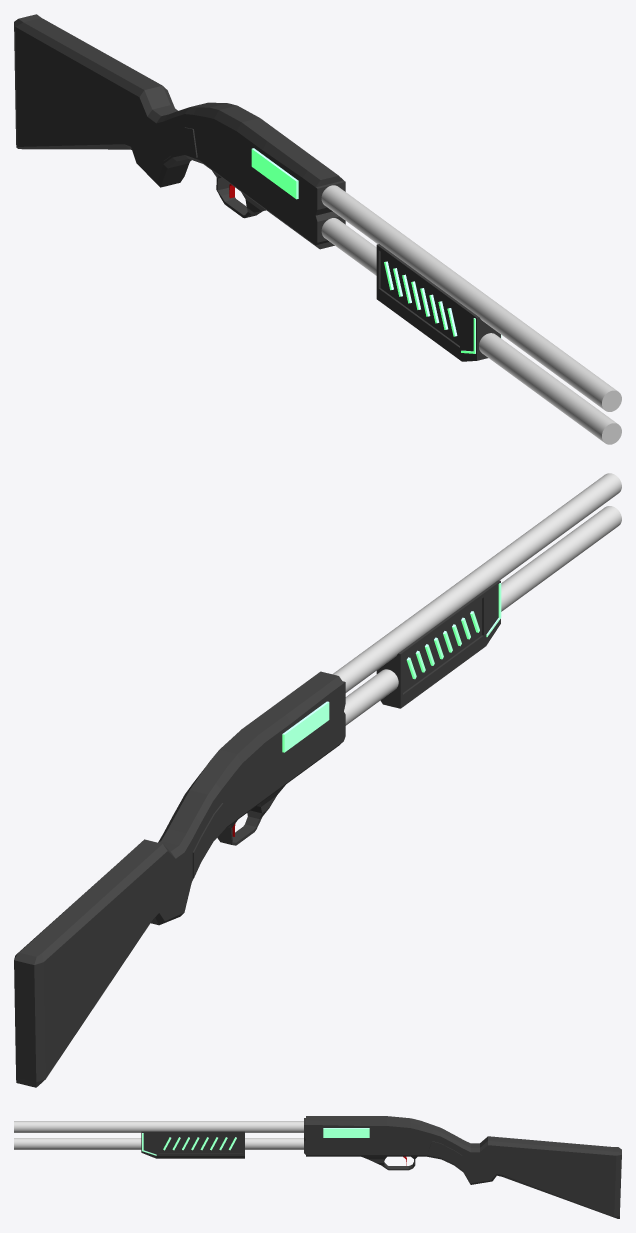
Rendered from Shotgun.fbx.
3 views of the same model, one above another, from view 1: azimuth 30°, elevation 25°; view 2: azimuth 150°, elevation 25°; view 3: azimuth 270°, elevation 25° (orthographic). The views are drawn at different scales.
Visible parts, largest first — view 1: Handel, Barrel, Magazine, Grip, NeonGrip, Neon.001; view 2: Handel, Barrel, Grip, Magazine, Neon.001, NeonGrip; view 3: Handel, Barrel, Grip, Magazine, Neon.001, NeonGrip.
Boxes of the visible parts, box(x1,y1,x2,y2) form: Handel: box(14, 14, 345, 249); Barrel: box(321, 185, 621, 411); Magazine: box(321, 218, 621, 444); Grip: box(376, 244, 500, 361); NeonGrip: box(384, 261, 457, 336); Neon.001: box(251, 148, 298, 199); Handel: box(14, 671, 345, 1087); Barrel: box(333, 473, 621, 692); Grip: box(376, 580, 500, 708); Magazine: box(344, 506, 621, 725); Neon.001: box(282, 701, 329, 752); NeonGrip: box(406, 611, 479, 679); Handel: box(304, 1116, 621, 1218); Barrel: box(14, 1121, 303, 1132); Grip: box(141, 1131, 244, 1158); Magazine: box(14, 1138, 303, 1149); Neon.001: box(323, 1128, 369, 1137); NeonGrip: box(163, 1137, 236, 1150).
Bounding box in the file's own units: 12.52 × 68.66 × 386.
